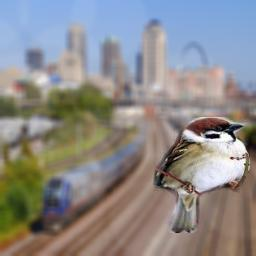Sparrow: (153, 117, 250, 233)
